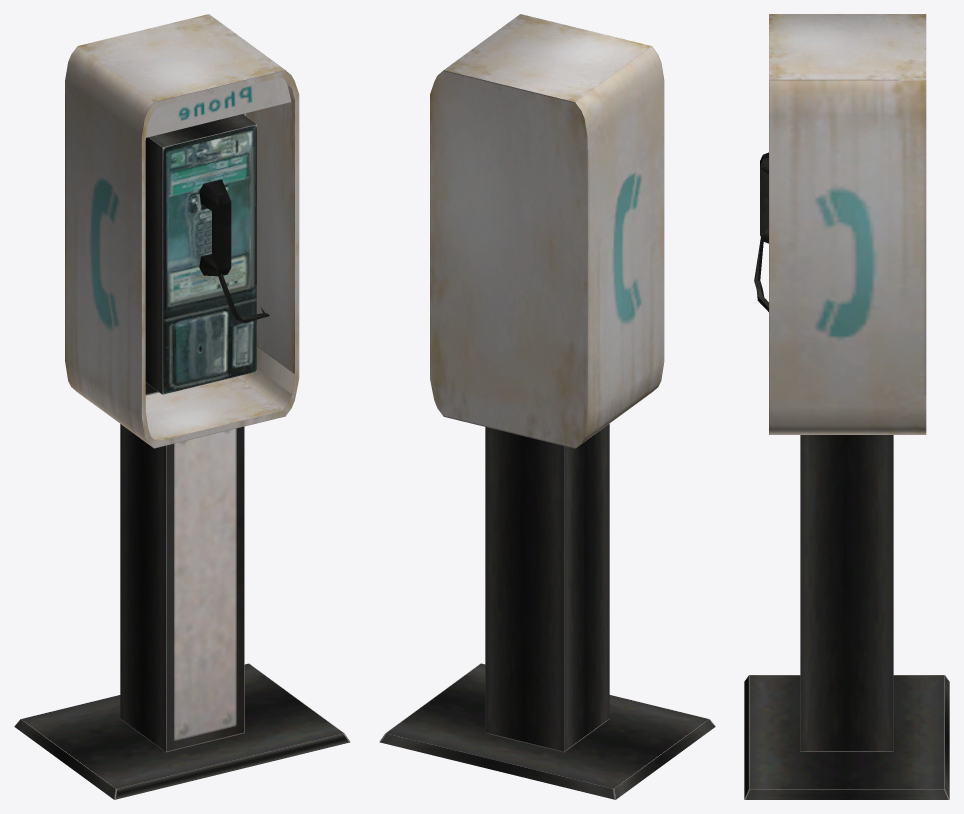
Rendered from default_pedestal01.fbx.
3 views of the same model, side by side, from view 1: azimuth 30°, elevation 25°; view 2: azimuth 150°, elevation 25°; view 3: azimuth 270°, elevation 25° (orthographic). The views are drawn at different scales.
Visible parts, largest first — view 1: mesh_0; view 2: mesh_0; view 3: mesh_0.
Part boxes in pixels (box(x1,y1,x2,y2)): mesh_0: box(14, 14, 350, 799); mesh_0: box(379, 14, 715, 799); mesh_0: box(744, 14, 949, 799).
Bounding box in the file's own units: 60 × 164 × 44.
1 material, 1 textured.
